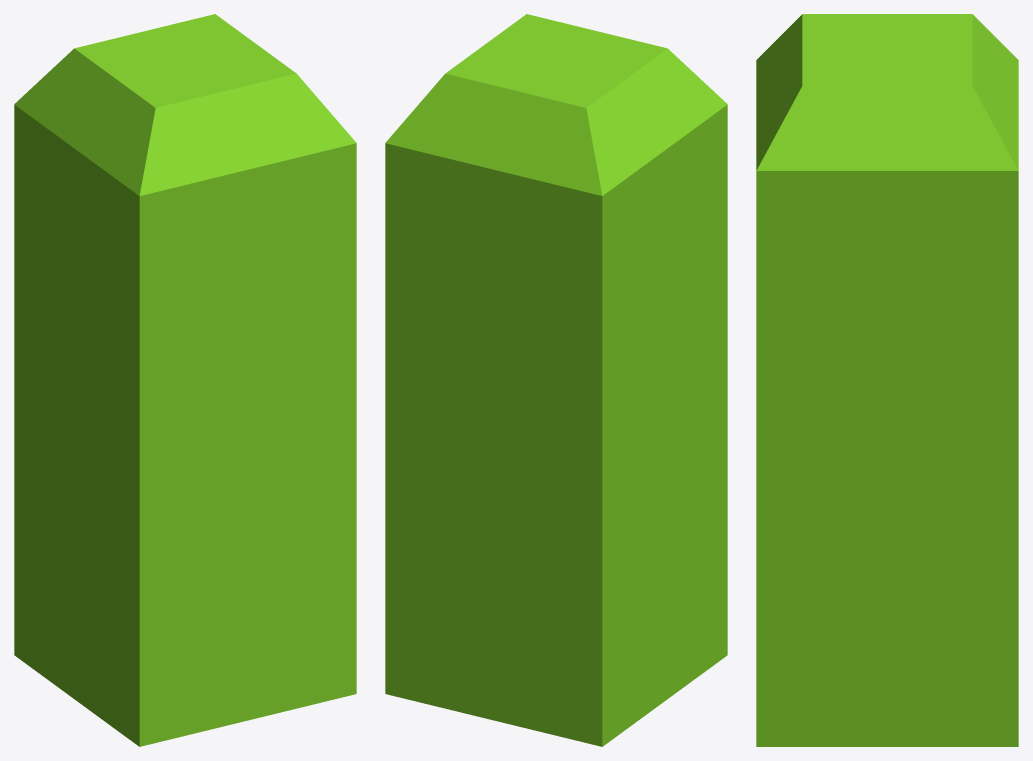
Rendered from Crystal_Green_B.fbx.
3 renders of one model, left to right at view 1: azimuth 30°, elevation 25°; view 2: azimuth 150°, elevation 25°; view 3: azimuth 270°, elevation 25°, orthographic. The views are drawn at different scales.
Parts seen in each view (by area): view 1: Crystal_Green_B; view 2: Crystal_Green_B; view 3: Crystal_Green_B.
Part boxes in pixels (box(x1,y1,x2,y2)): Crystal_Green_B: box(14, 14, 356, 746); Crystal_Green_B: box(385, 14, 727, 746); Crystal_Green_B: box(756, 14, 1018, 746).
Size of the model in its own units: 38.15 by 103 by 38.15.
